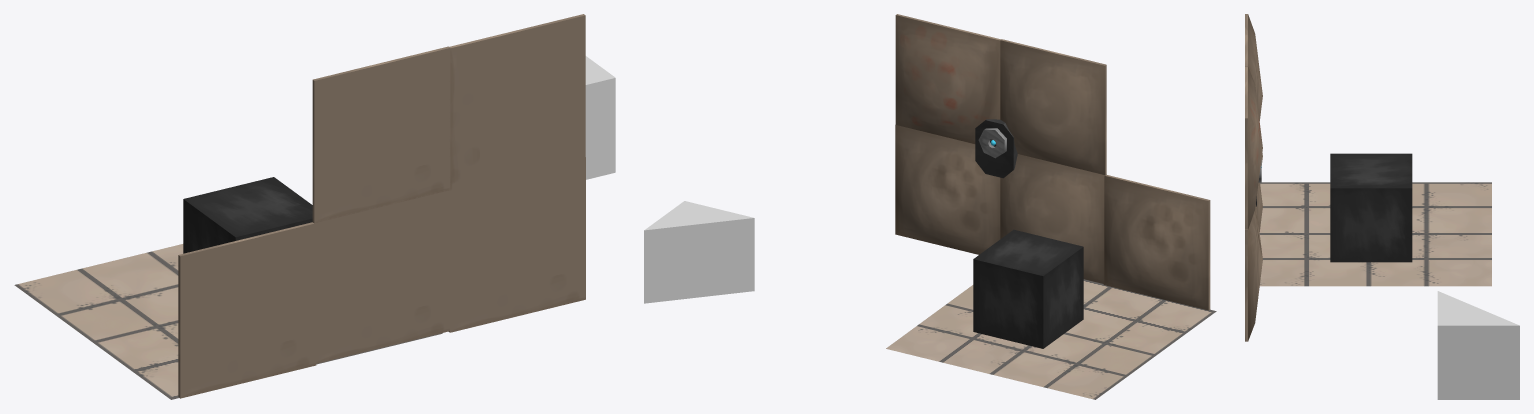
3 views of the same model, side by side, from view 1: azimuth 30°, elevation 25°; view 2: azimuth 150°, elevation 25°; view 3: azimuth 270°, elevation 25° (orthographic). The views are drawn at different scales.
Visible parts, largest first — view 1: mur005, mur002, mur003, mur, mur004, Plane001, cube, fromage; view 2: Plane001, mur005, mur002, mur003, cube, mur, fromage, mur004, interrupteur, Cylinder001; view 3: Plane001, cube, fromage, mur003, mur, mur002.
Part boxes in pixels (x1=…): mur005: x1=178, y1=222, x2=316, y2=398; mur002: x1=312, y1=46, x2=450, y2=222; mur003: x1=449, y1=14, x2=585, y2=190; mur: x1=448, y1=157, x2=585, y2=332; mur004: x1=313, y1=189, x2=450, y2=363; Plane001: x1=14, y1=244, x2=442, y2=399; cube: x1=183, y1=177, x2=312, y2=253; fromage: x1=585, y1=56, x2=615, y2=179; Plane001: x1=886, y1=279, x2=1216, y2=399; mur005: x1=1103, y1=175, x2=1210, y2=310; mur002: x1=1000, y1=39, x2=1106, y2=175; mur003: x1=895, y1=14, x2=1000, y2=143; cube: x1=973, y1=229, x2=1083, y2=348; mur: x1=895, y1=124, x2=1000, y2=254; fromage: x1=644, y1=201, x2=754, y2=303; mur004: x1=1000, y1=154, x2=1105, y2=283; interrupteur: x1=975, y1=119, x2=1017, y2=178; Cylinder001: x1=978, y1=128, x2=1006, y2=158; Plane001: x1=1259, y1=182, x2=1491, y2=286; cube: x1=1330, y1=153, x2=1412, y2=262; fromage: x1=1437, y1=291, x2=1519, y2=399; mur003: x1=1245, y1=66, x2=1262, y2=229; mur: x1=1245, y1=204, x2=1262, y2=341; mur002: x1=1245, y1=14, x2=1262, y2=120.
Bounding box in the file's own units: 626 × 300 × 334.
